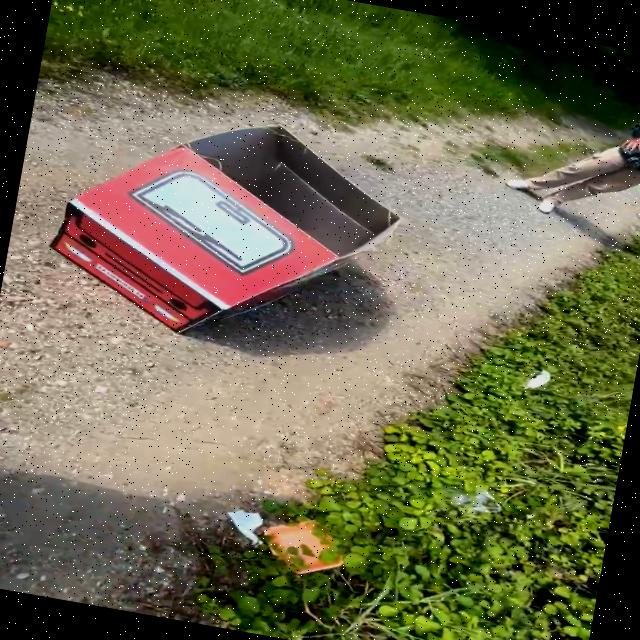red_car: (0, 71, 447, 399)
